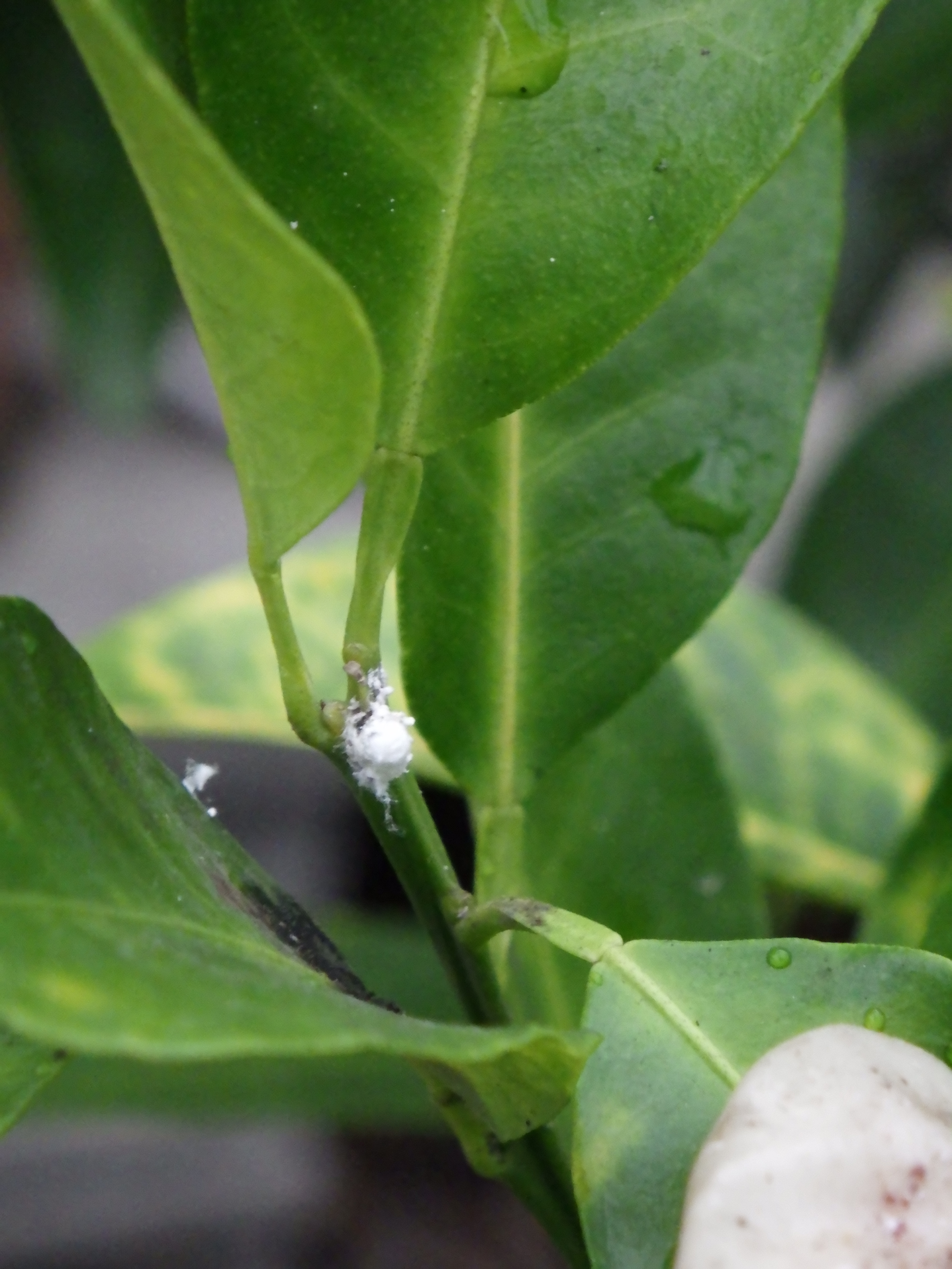Scale_Insect: (342, 666, 417, 796)
